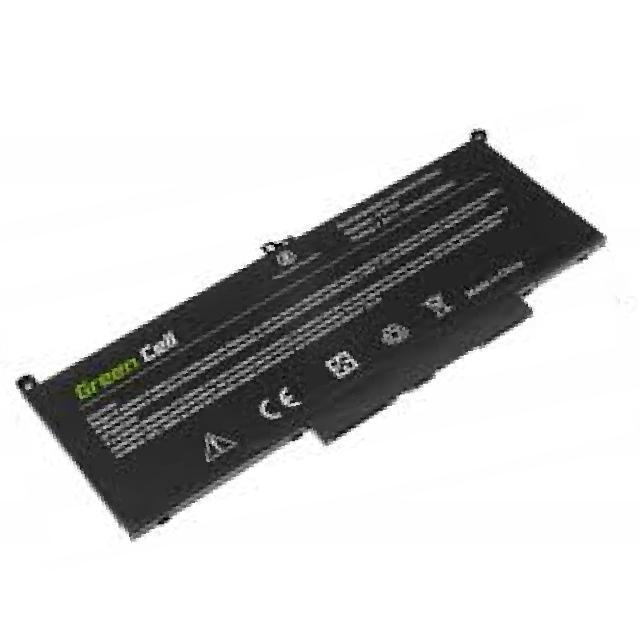Battery: (22, 99, 640, 555)
